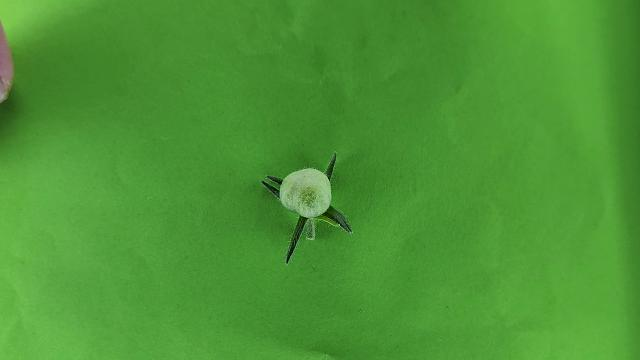Fruit Maturation: (280, 169, 331, 217)
